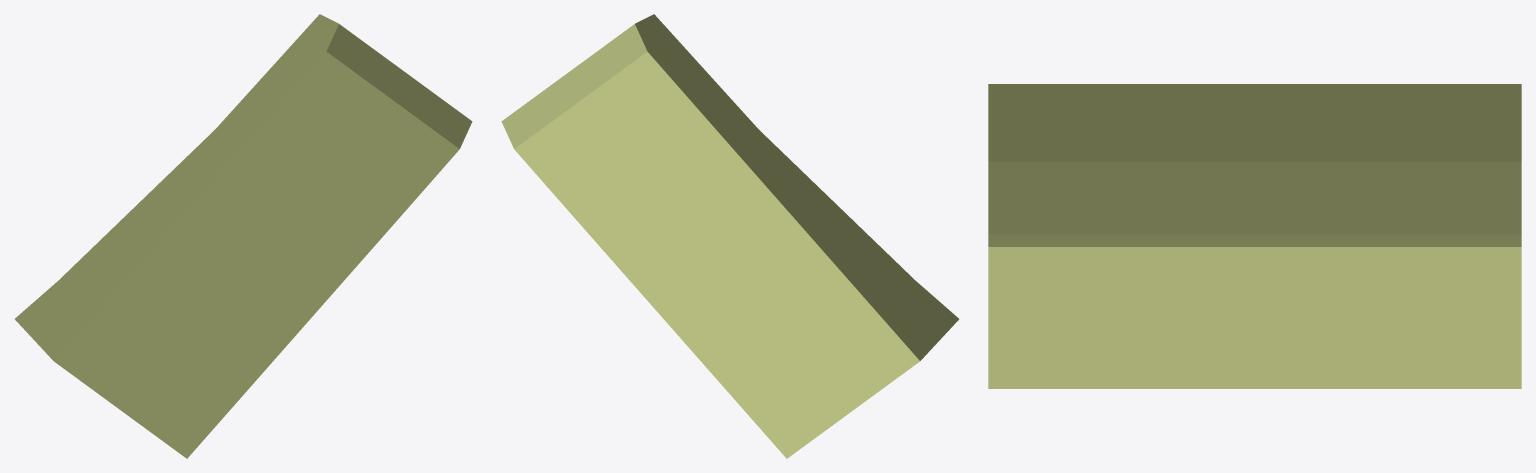
3 renders of one model, left to right at view 1: azimuth 30°, elevation 25°; view 2: azimuth 150°, elevation 25°; view 3: azimuth 270°, elevation 25°, orthographic. The views are drawn at different scales.
Parts seen in each view (by area): view 1: 0_1_3_2_2_1_2_1_0_1; view 2: 0_1_3_2_2_1_2_1_0_1; view 3: 0_1_3_2_2_1_2_1_0_1.
Boxes of the visible parts, x1=… form: 0_1_3_2_2_1_2_1_0_1: x1=15, y1=14, x2=472, y2=458; 0_1_3_2_2_1_2_1_0_1: x1=501, y1=14, x2=958, y2=458; 0_1_3_2_2_1_2_1_0_1: x1=988, y1=84, x2=1521, y2=388.
Bounding box in the file's own units: 12.65 × 10.51 × 9.
